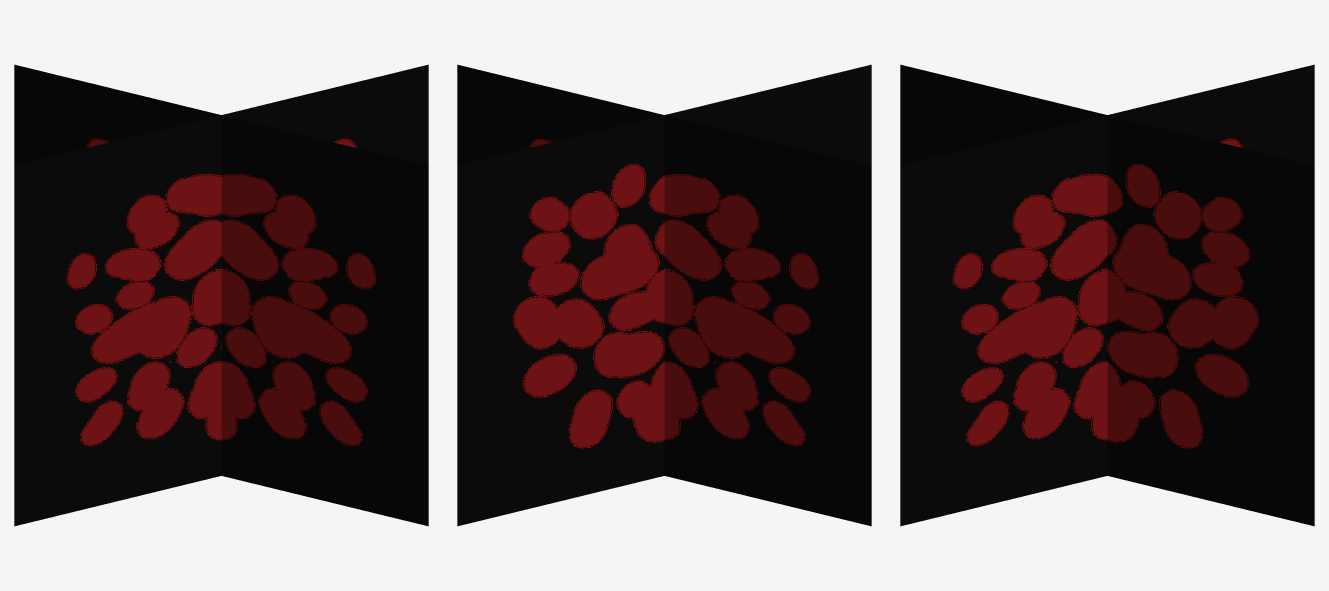
The model's file is vista-bush.glb.
3 views of the same model, side by side, from view 1: azimuth 30°, elevation 25°; view 2: azimuth 150°, elevation 25°; view 3: azimuth 270°, elevation 25° (orthographic).
Visible parts, largest first — view 1: vista-bush; view 2: vista-bush; view 3: vista-bush.
Part boxes in pixels (x1,y1,x2,y2): vista-bush: (14, 64, 428, 526); vista-bush: (457, 64, 871, 526); vista-bush: (900, 64, 1314, 526).
Bounding box in the file's own units: 1.9 × 1.58 × 1.65.
1 material, 1 textured.
